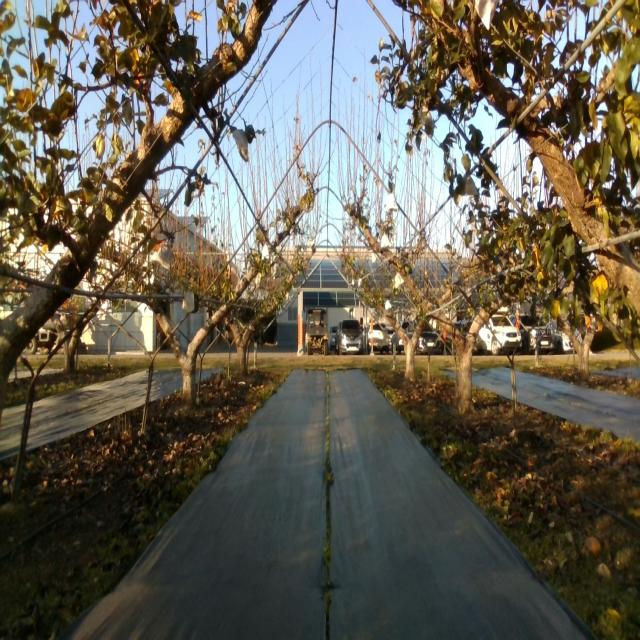pearbags: (150, 240, 173, 270), (232, 130, 250, 161), (462, 173, 478, 197)
